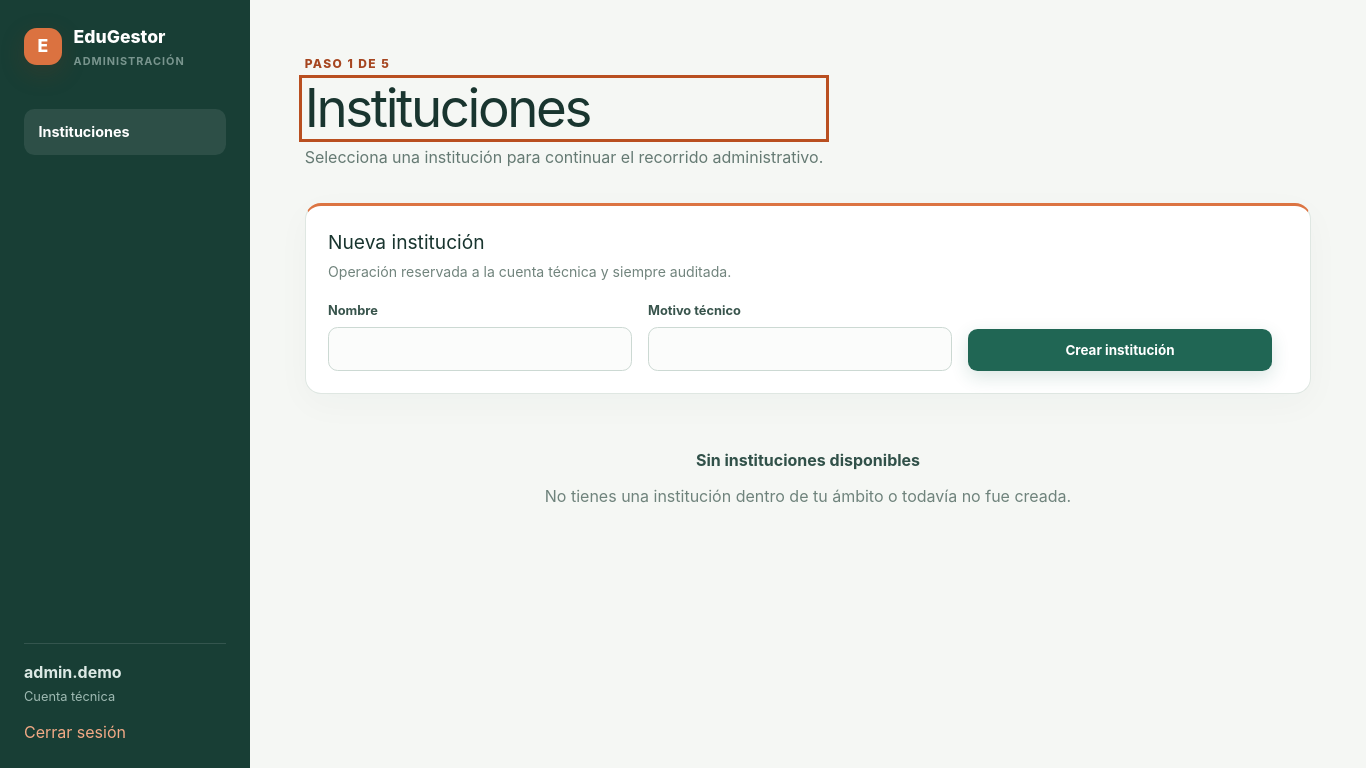
it: frontend Hito 1 › usa CSRF en una creación mutable y nunca persiste tokens en Web Storage
In the field labelled "Nombre": (480, 349) left=328, top=327, right=632, bottom=371, type "Colegio Demo"
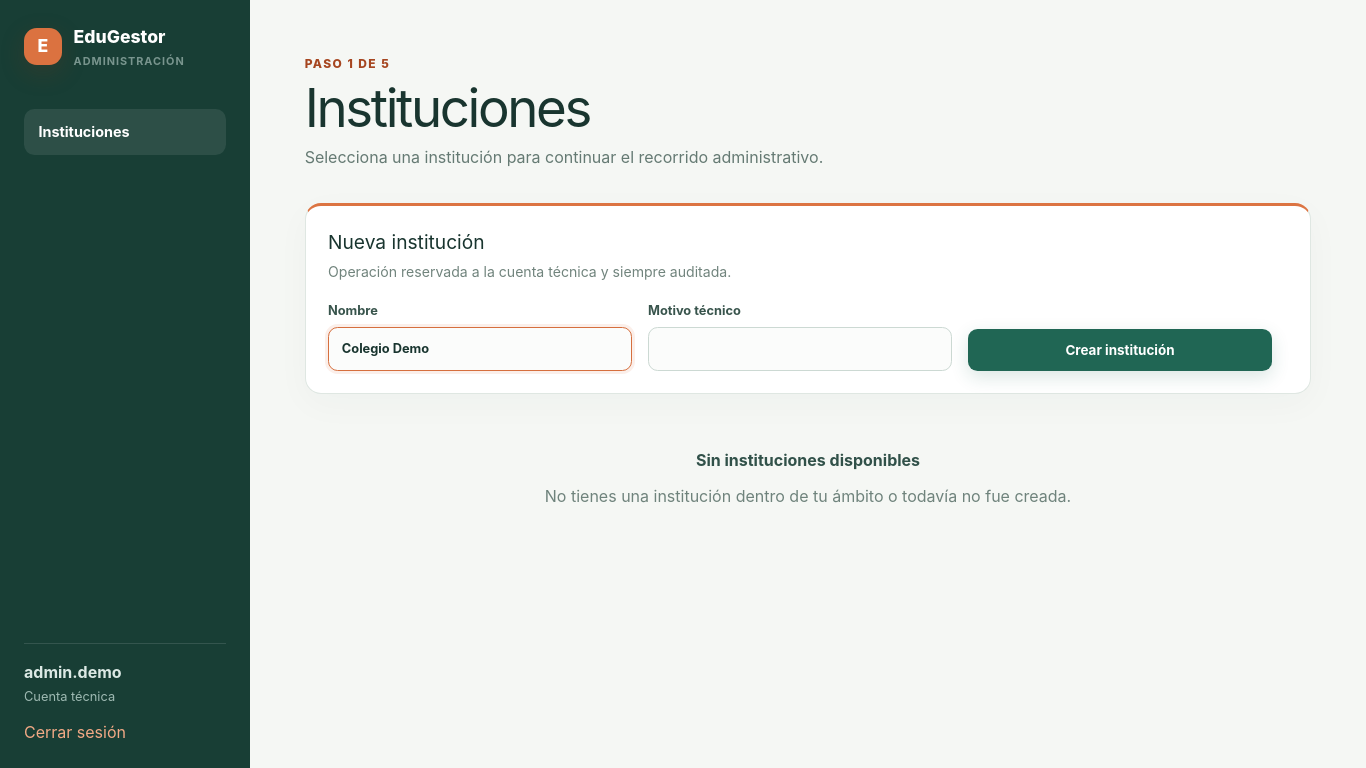
In the field labelled "Motivo técnico": (800, 349) left=648, top=327, right=952, bottom=371, type "Preparación de demo"
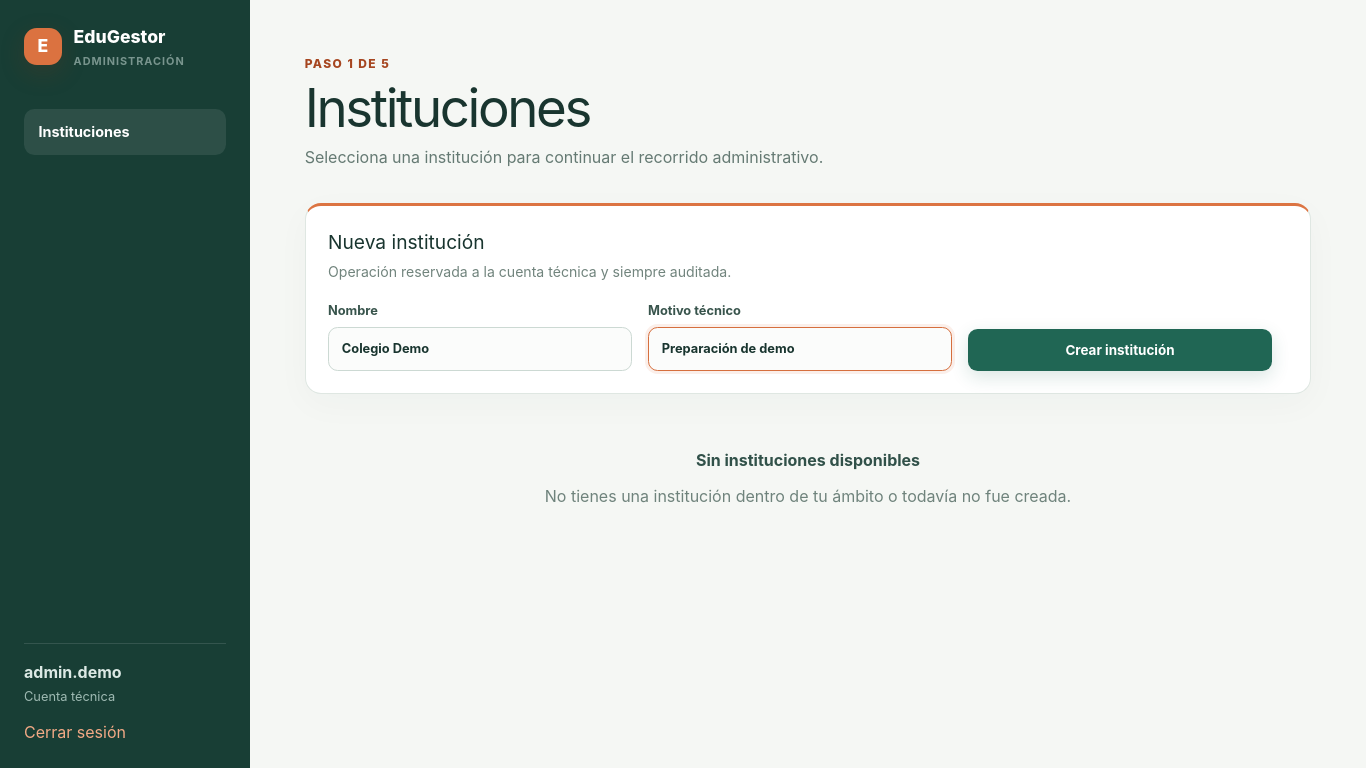
Click the button "Crear institución": (1120, 350) left=968, top=329, right=1272, bottom=371
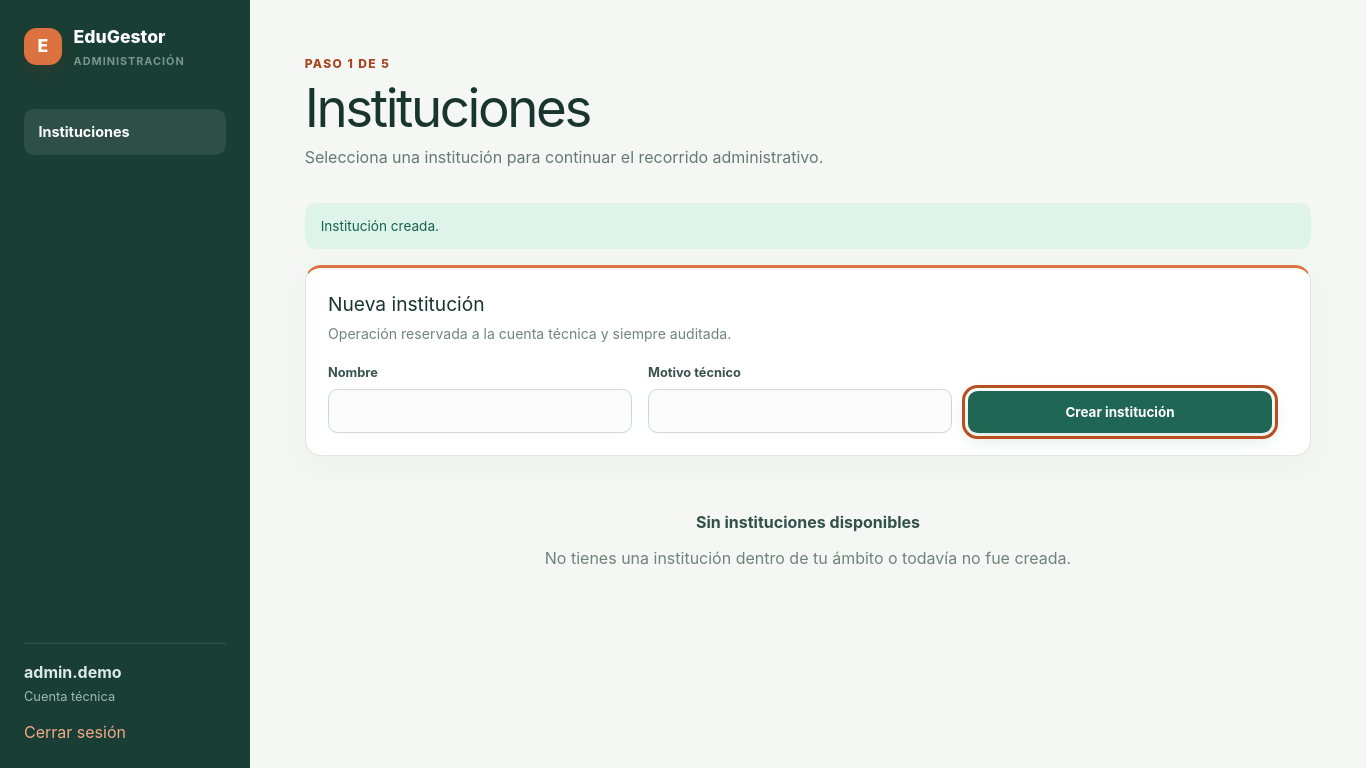
Check: the text "Institución creada." is shown, box left=305, top=203, right=1311, bottom=249
